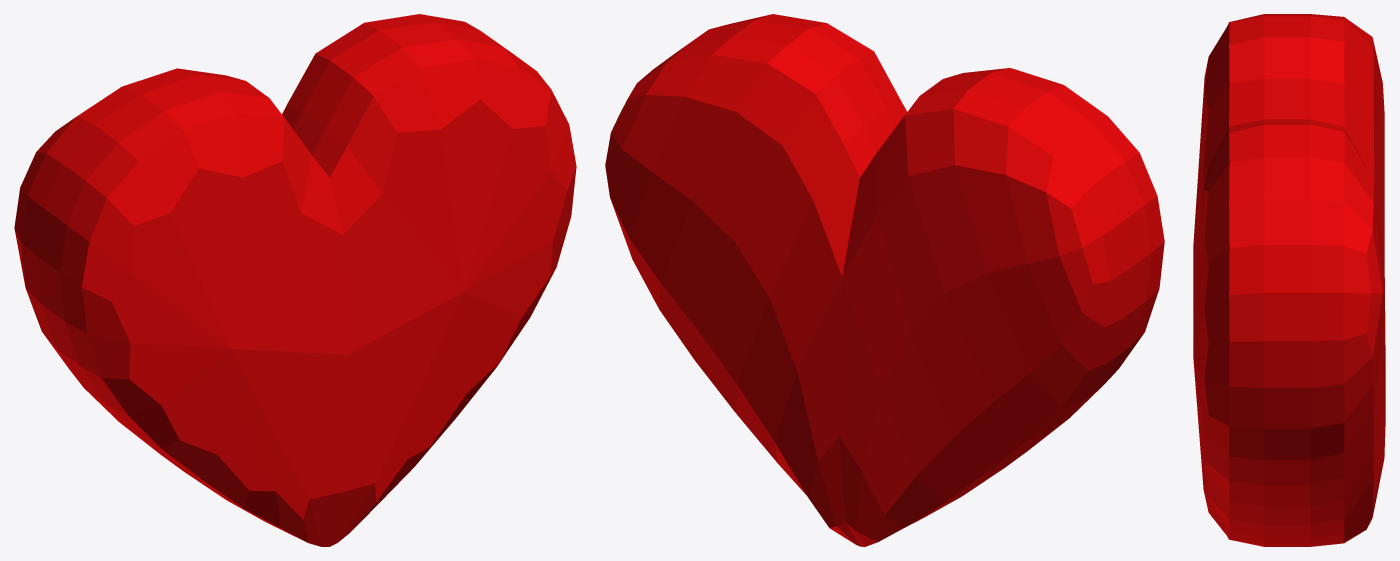
File: heart.fbx
3 renders of one model, left to right at view 1: azimuth 30°, elevation 25°; view 2: azimuth 150°, elevation 25°; view 3: azimuth 270°, elevation 25°, orthographic.
Visible parts, largest first — view 1: Cylinder; view 2: Cylinder; view 3: Cylinder.
Part boxes in pixels (x1=…): Cylinder: x1=14, y1=14, x2=576, y2=546; Cylinder: x1=605, y1=14, x2=1164, y2=546; Cylinder: x1=1193, y1=14, x2=1385, y2=546.
Size of the model in its own units: 40.08 by 36.11 by 13.53.
